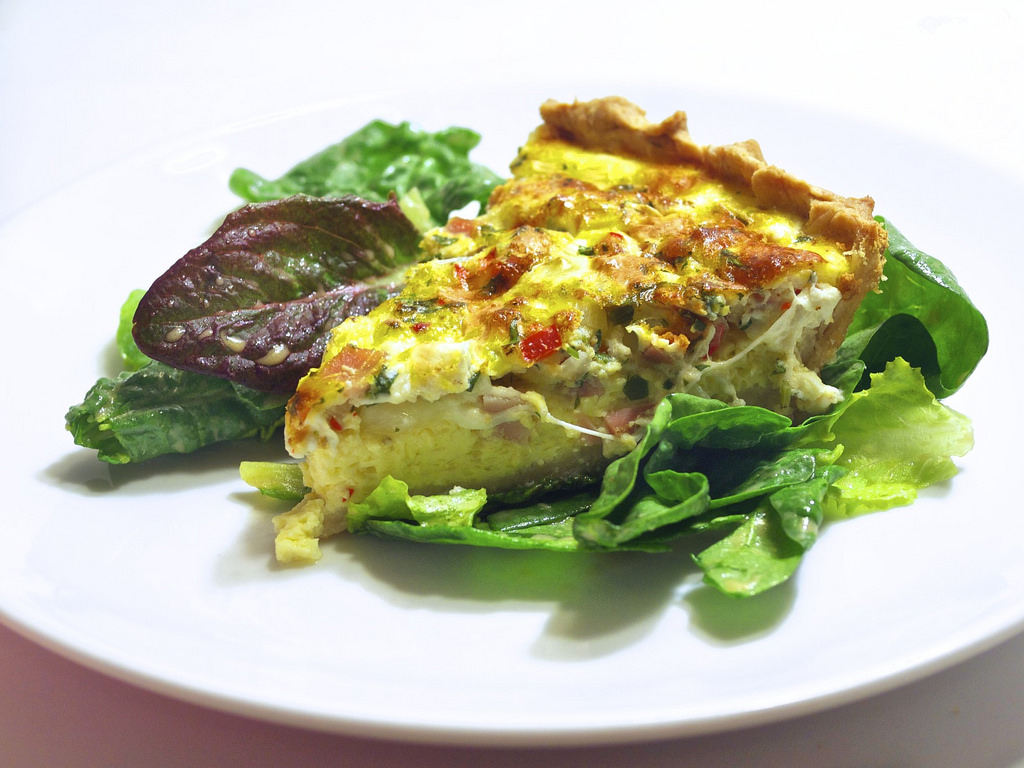chopped lettuce: (393, 353, 979, 580), (99, 118, 454, 470)
